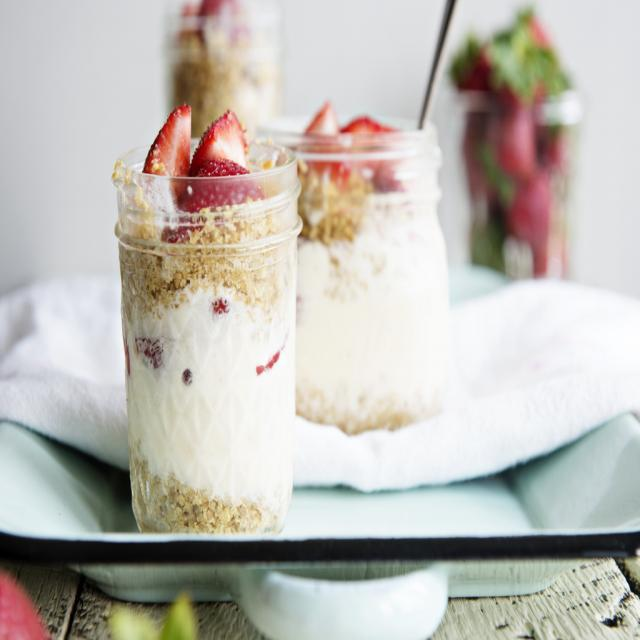Strawberry: (166, 158, 266, 240), (183, 105, 249, 189), (295, 100, 357, 184), (140, 108, 194, 179), (341, 114, 401, 141)
